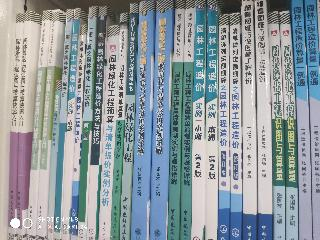book-spine: (150, 1, 172, 240), (36, 10, 59, 238), (27, 11, 50, 239), (132, 2, 153, 239), (292, 2, 312, 239), (277, 12, 297, 239), (301, 1, 320, 239), (88, 7, 107, 239), (78, 7, 97, 239), (54, 10, 72, 238), (99, 26, 118, 240), (254, 1, 271, 240), (121, 5, 138, 239), (63, 9, 80, 238), (111, 13, 127, 239), (169, 2, 184, 239), (269, 13, 284, 240), (8, 15, 23, 238), (181, 1, 195, 239), (192, 1, 206, 238), (71, 25, 86, 239), (18, 13, 31, 239), (243, 1, 255, 239), (206, 2, 217, 239), (229, 14, 239, 239), (219, 15, 228, 239), (48, 81, 60, 238)
